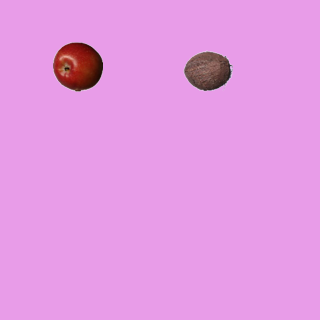Apple Braeburn: (52, 41, 102, 91)
Cocos: (182, 45, 232, 95)
